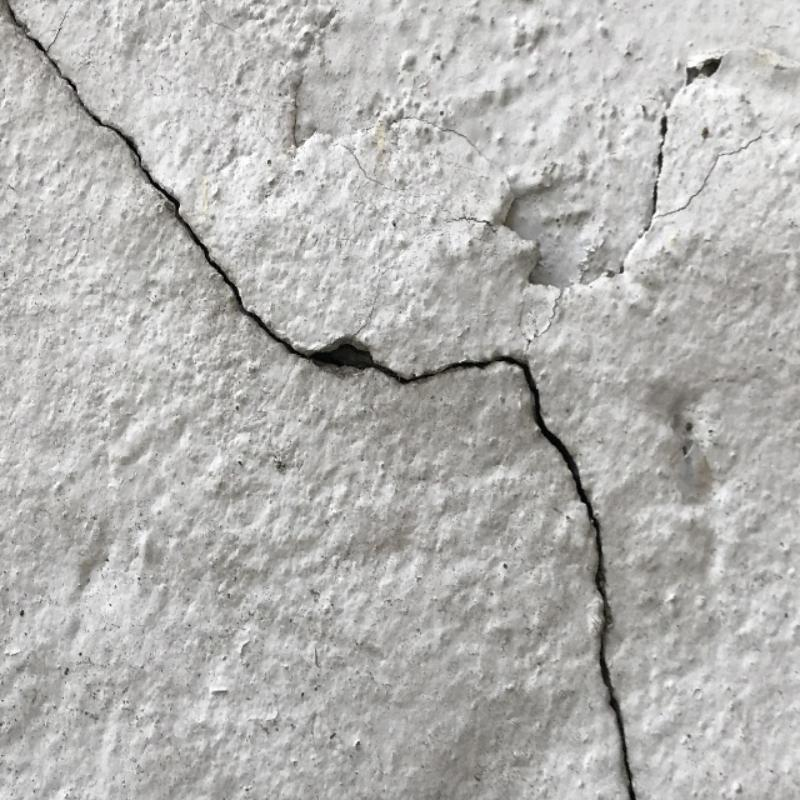pothole: (9, 0, 636, 799)
